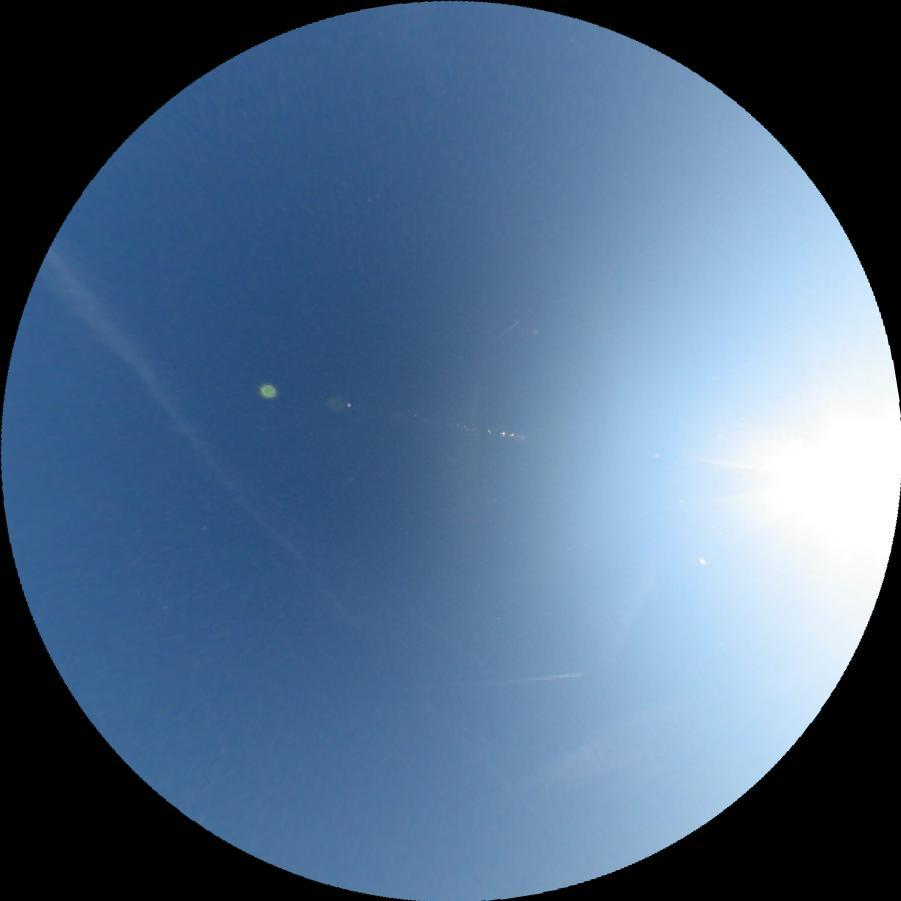contrail veryold: (29, 243, 367, 648)
contrail young: (428, 670, 585, 688), (497, 316, 522, 338)
sun: (766, 360, 898, 608)
